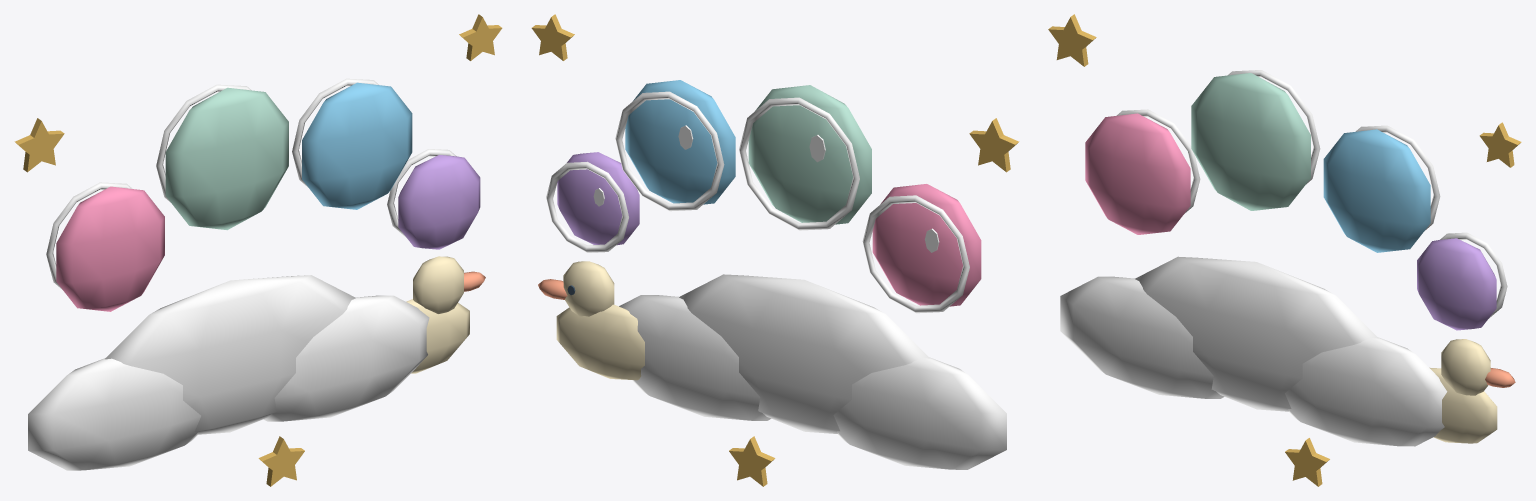
The model's file is art_bubble.glb.
The picture shows the model from 3 angles, left to right: view 1: azimuth 30°, elevation 25°; view 2: azimuth 150°, elevation 25°; view 3: azimuth 330°, elevation 25°; orthographic projection. The views are drawn at different scales.
Parts seen in each view (by area): view 1: Body; view 2: Body; view 3: Body.
Boxes of the visible parts, bbox=[...] form: Body: bbox=[14, 14, 502, 486]; Body: bbox=[531, 14, 1019, 486]; Body: bbox=[1048, 14, 1521, 486].
Bounding box in the file's own units: 0.6 × 0.5 × 0.05.
9 materials, 9 textured.
